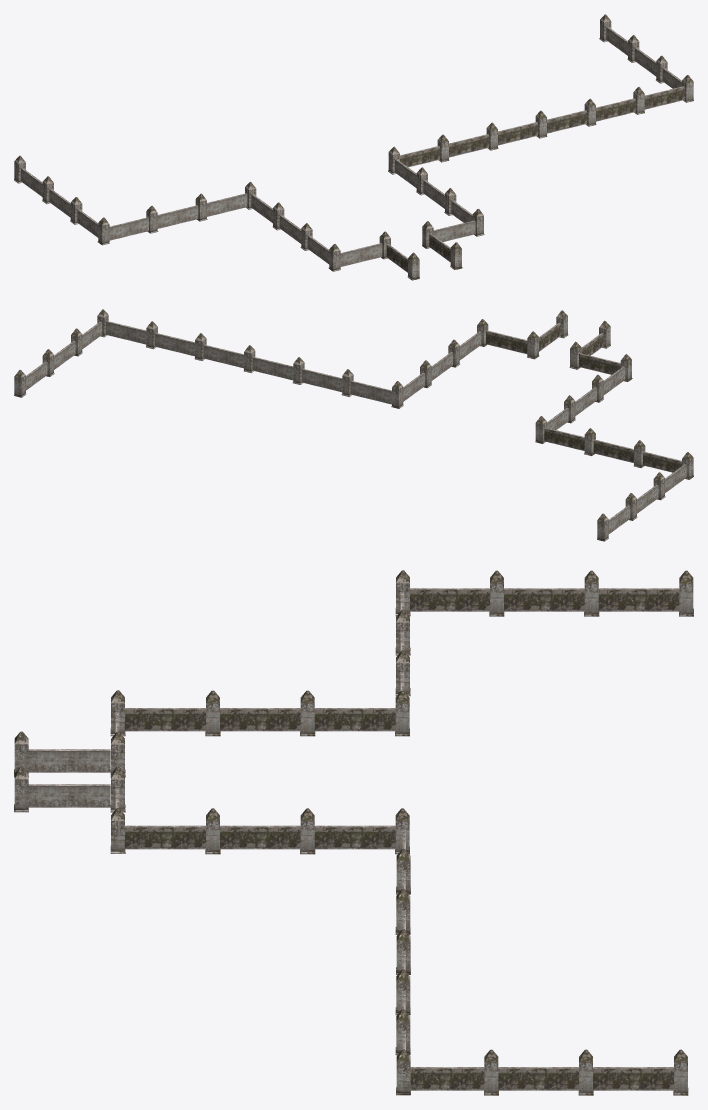
Rendered from Wall.fbx.
3 views of the same model, one above another, from view 1: azimuth 30°, elevation 25°; view 2: azimuth 150°, elevation 25°; view 3: azimuth 270°, elevation 25° (orthographic). The views are drawn at different scales.
Parts seen in each view (by area): view 1: Mesh194; view 2: Mesh194; view 3: Mesh194.
Part boxes in pixels (x1=…): Mesh194: x1=14, y1=14, x2=693, y2=280; Mesh194: x1=14, y1=309, x2=693, y2=541; Mesh194: x1=14, y1=570, x2=693, y2=1095.
Size of the model in its own units: 476 by 19.31 by 282.
7 materials, 7 textured.
